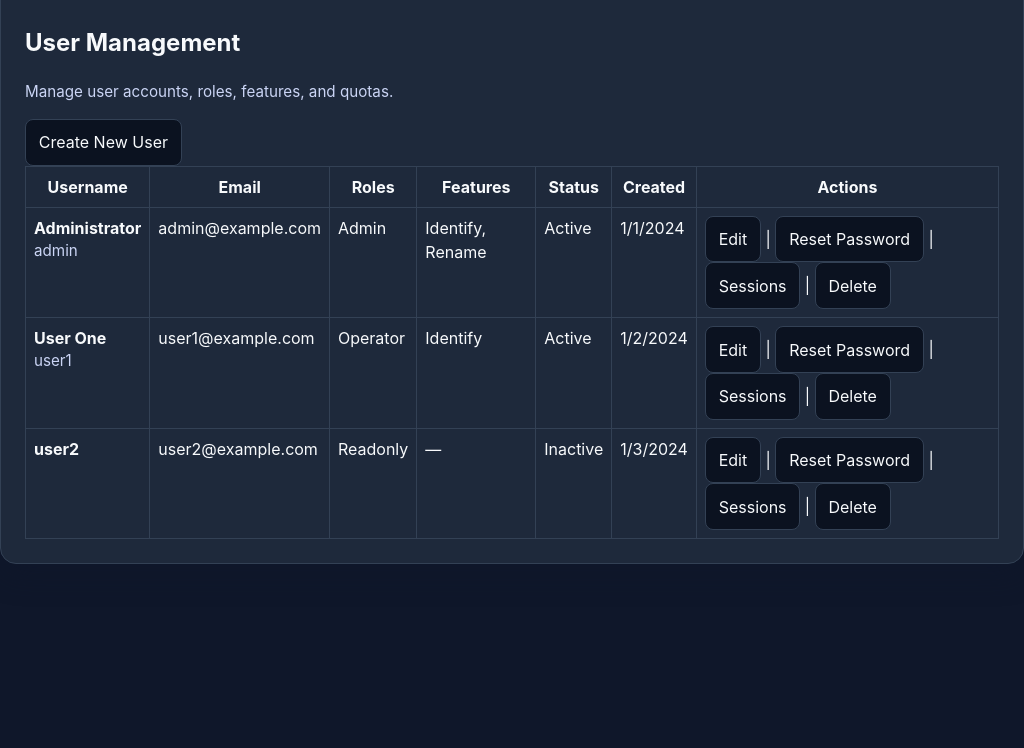
Test: UserManager › opens create user modal when create button is clicked
This screenshot has width=1024, height=748.
// Click create user button
Click the button "Create New User" at x=103, y=142, box [25,119,182,166]
(page scrolled)
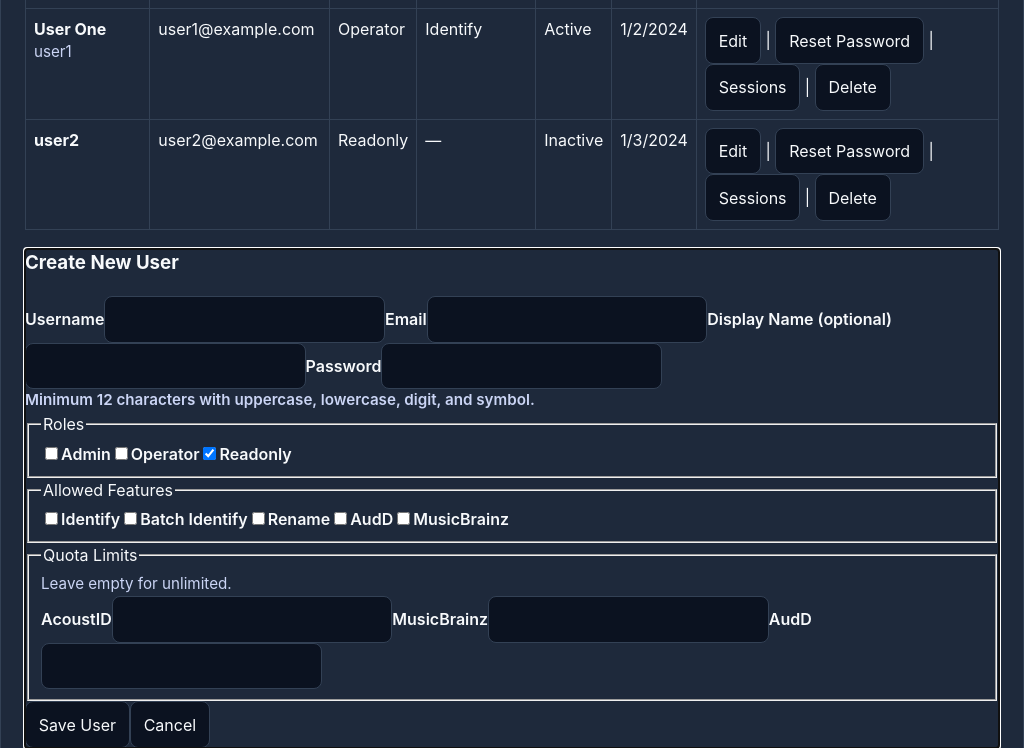
Expected: the heading "Create New User" is shown, [25,251,179,274]
